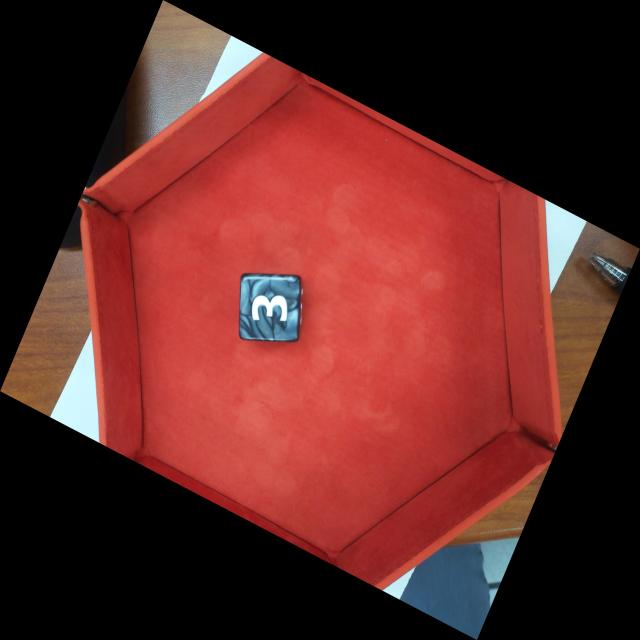dice: (238, 270, 302, 344)
